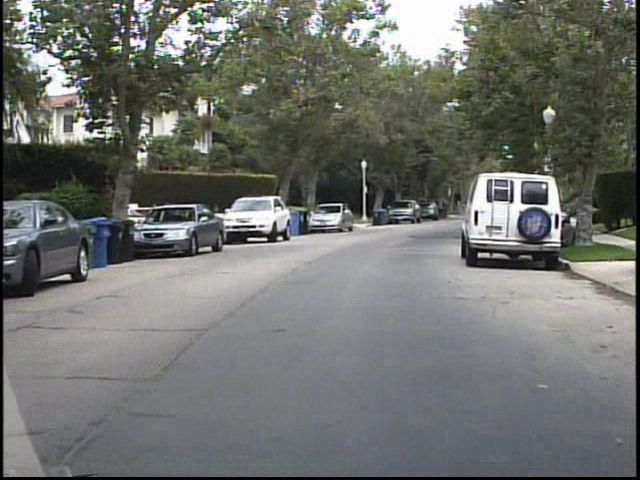person: (558, 216, 580, 252)
